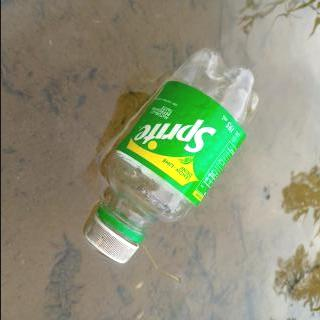bottle: (83, 46, 261, 264)
